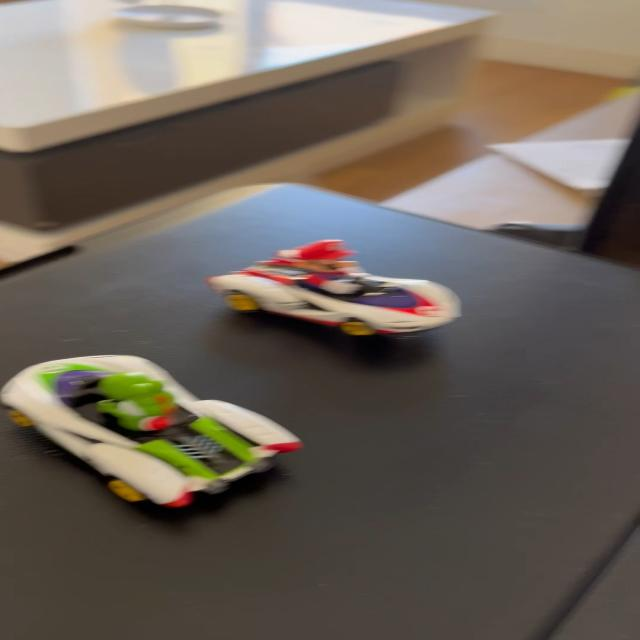mario: (205, 235, 480, 339)
yoshi: (11, 344, 316, 519)
